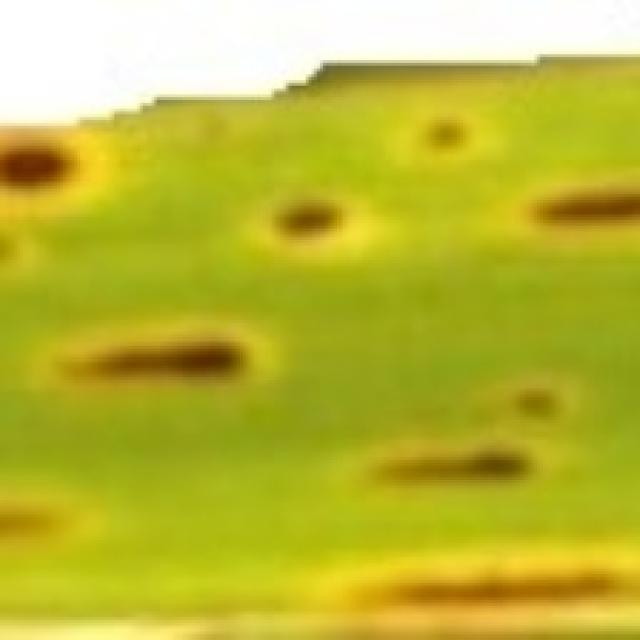Rice___Brown_Spot: (0, 57, 637, 637)
